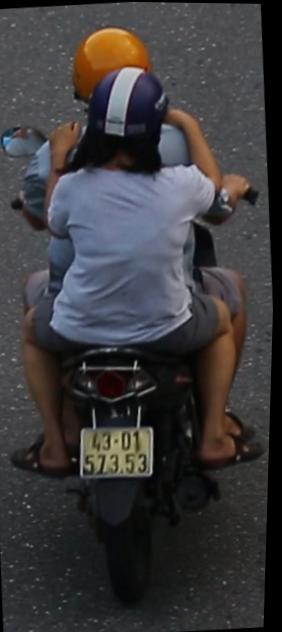LP: (75, 416, 162, 487)
helmet: (77, 60, 177, 188), (59, 21, 158, 98)
